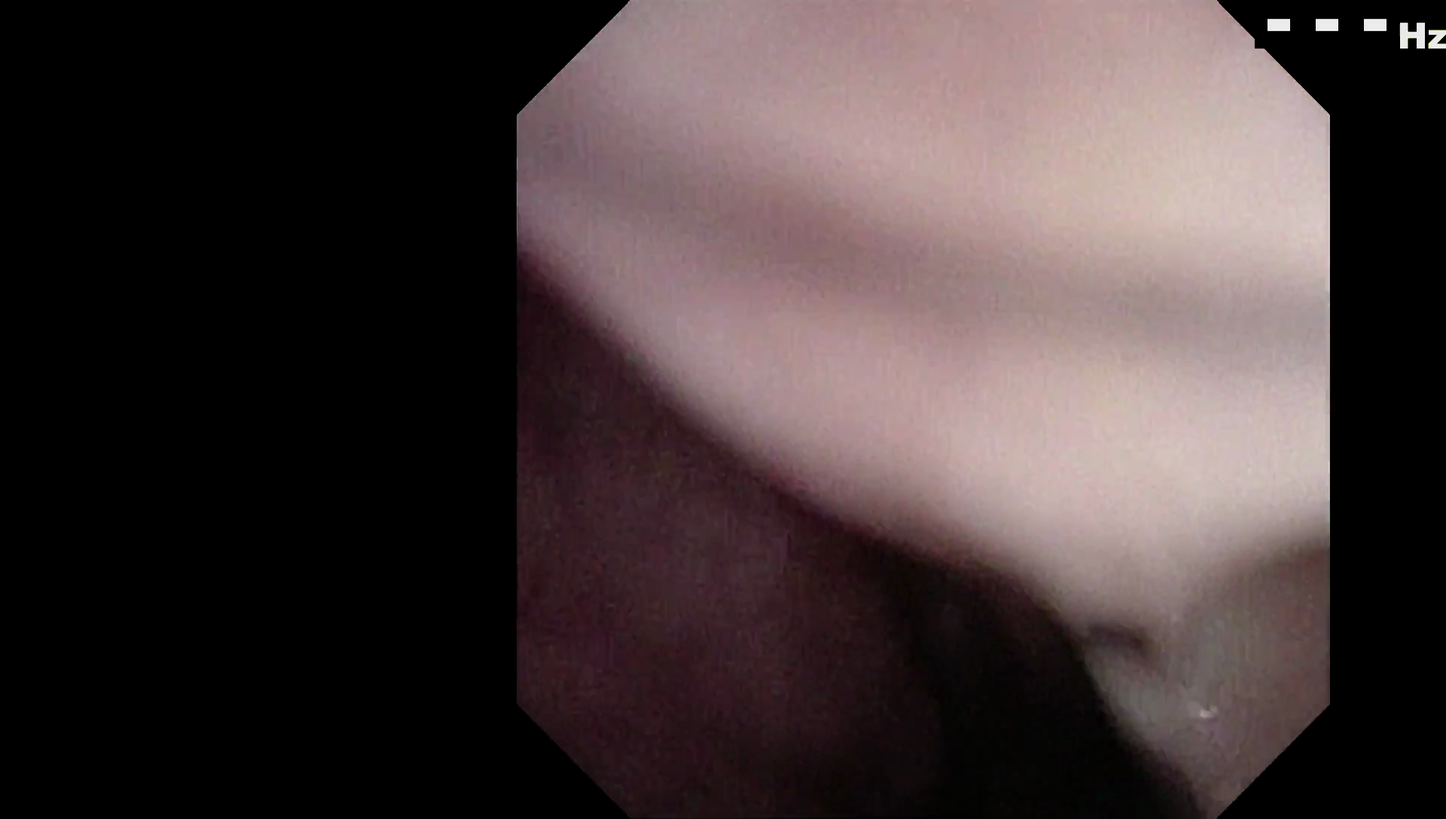close_wall: (563, 75, 1275, 626)
next: (745, 467, 1215, 819)
